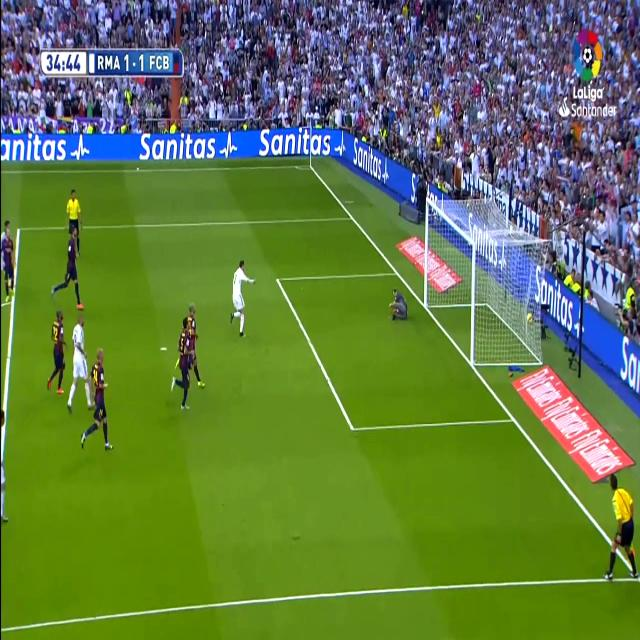bigarea_bottom_inner: (346, 412, 358, 442)
bigarea_top_inner: (272, 268, 282, 289)
bigarea_top_outter: (348, 209, 355, 223)
corner: (306, 160, 314, 172)
smallarea_bottom_outter: (508, 405, 519, 432)
smallarea_top_outter: (393, 263, 400, 280)
